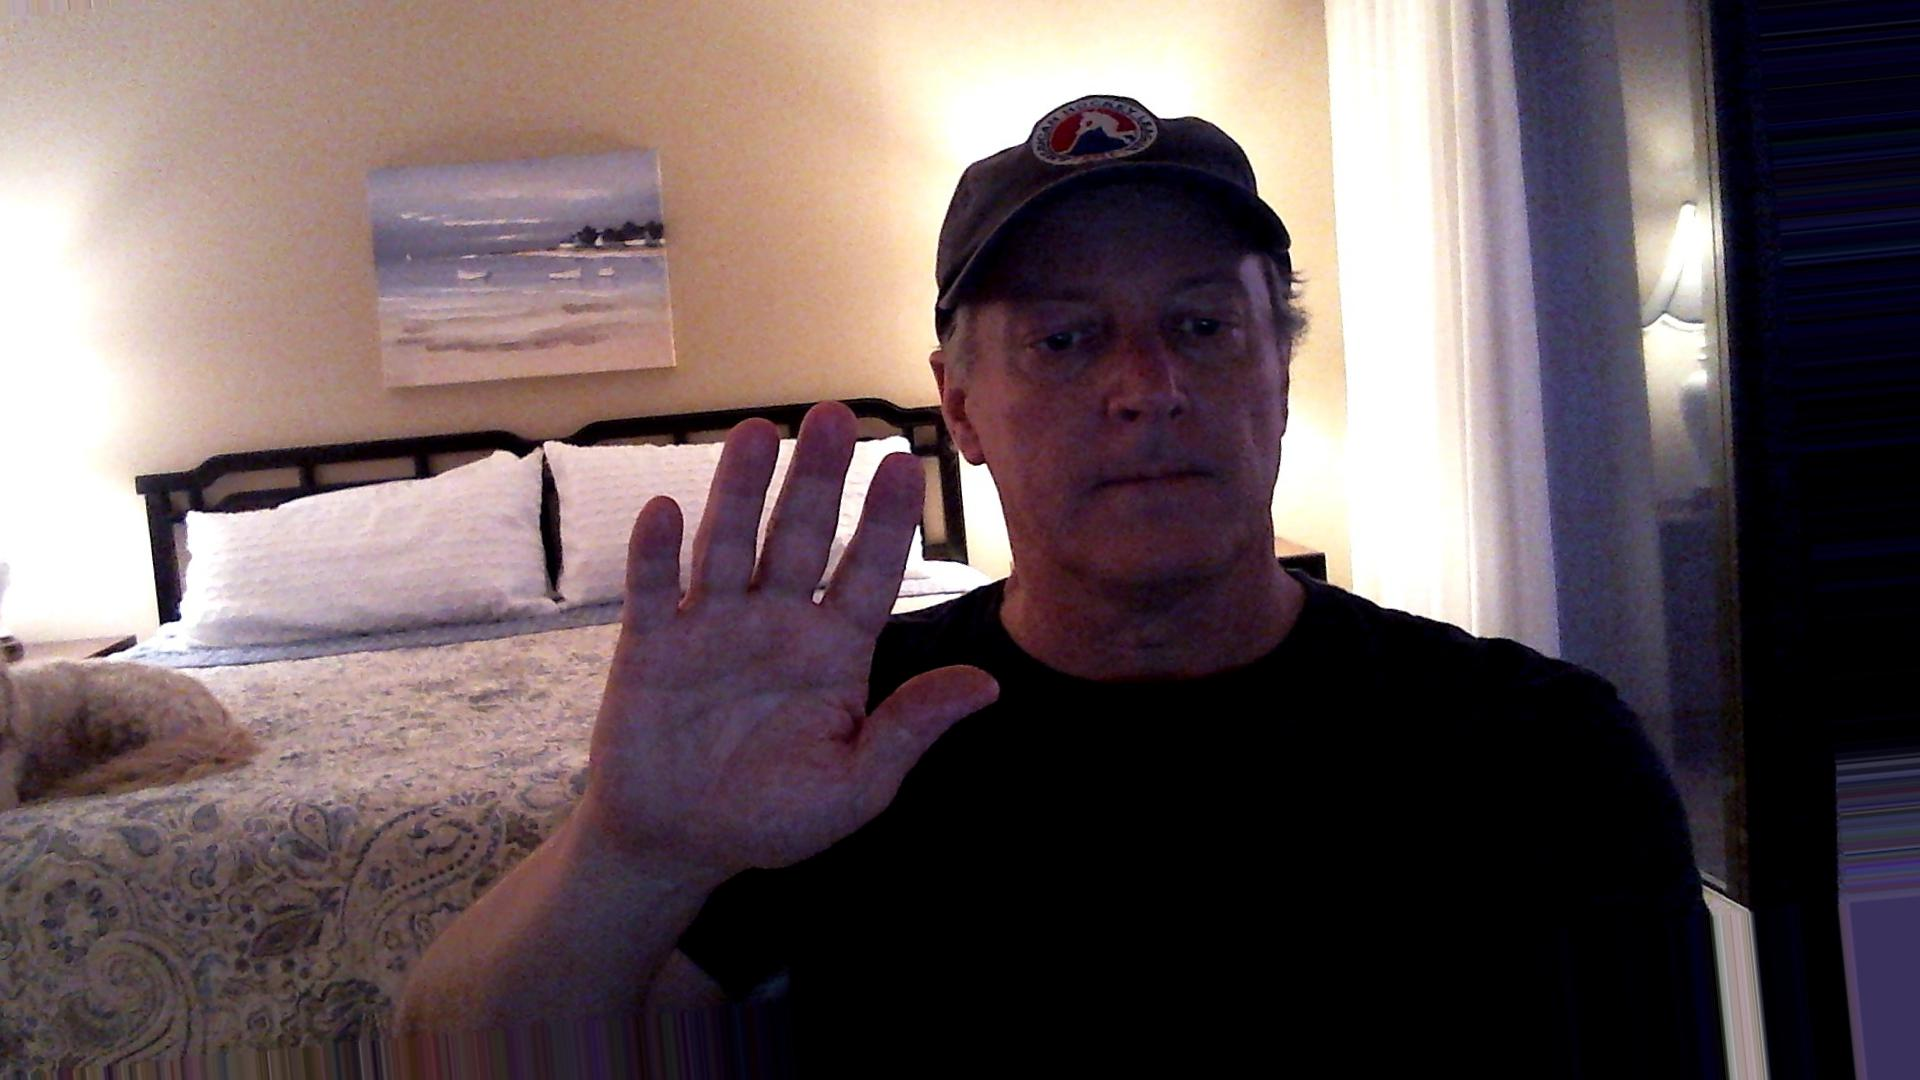Hello: (578, 392, 1019, 876)
